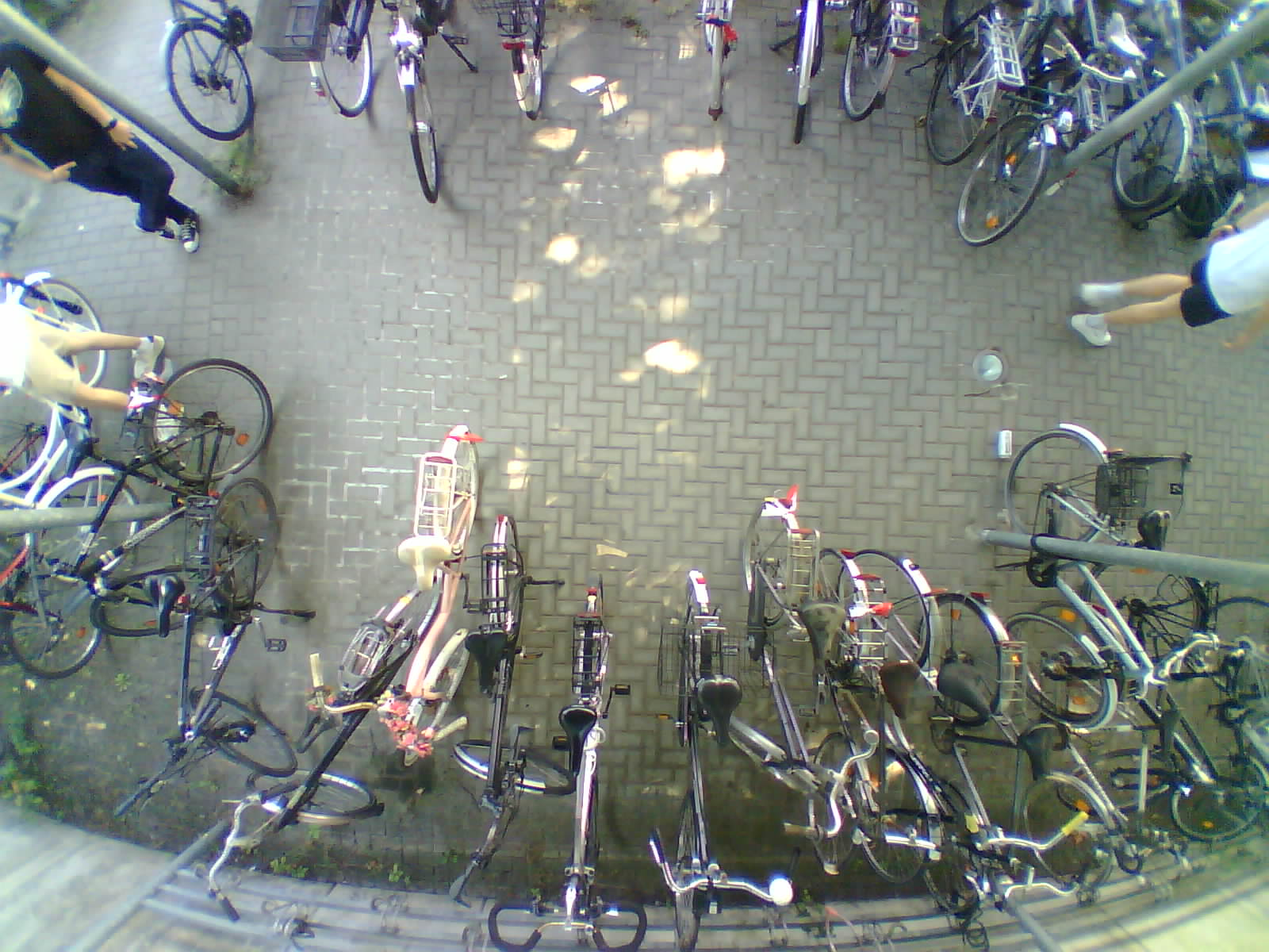bicylce: (76, 359, 273, 639), (1002, 414, 1150, 731), (259, 590, 430, 843), (650, 560, 748, 949), (176, 467, 299, 772), (740, 485, 836, 841), (957, 0, 1085, 248), (393, 433, 490, 760), (853, 546, 949, 874), (548, 580, 626, 952), (934, 594, 1018, 919), (469, 513, 550, 820), (1017, 631, 1112, 889), (816, 545, 870, 869)
saddle: (941, 655, 1004, 723), (690, 669, 743, 748), (393, 526, 452, 596), (144, 567, 191, 644), (461, 623, 514, 690), (553, 700, 594, 776), (797, 600, 841, 667), (875, 663, 921, 723), (295, 704, 351, 752), (1135, 508, 1183, 561), (1019, 721, 1064, 777), (1100, 8, 1143, 64), (61, 419, 99, 469), (1159, 712, 1189, 762)
